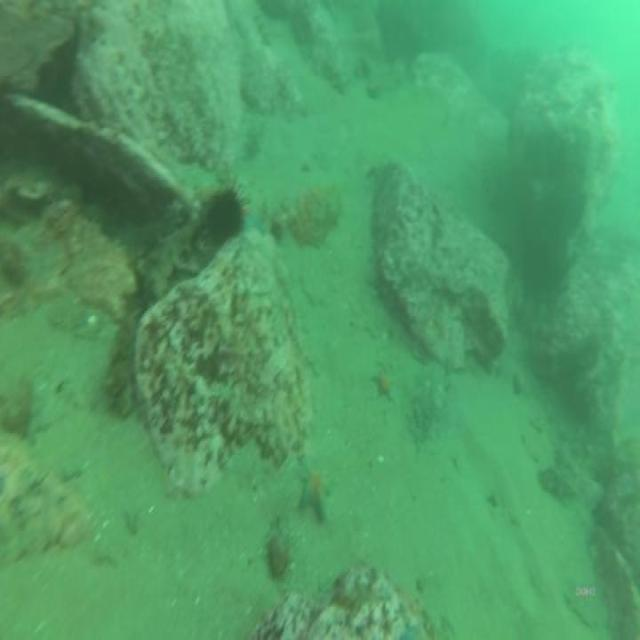echinus: (198, 172, 251, 253)
holothurian: (106, 220, 196, 418)
starfish: (296, 460, 334, 528), (369, 366, 397, 404), (241, 198, 258, 226)
